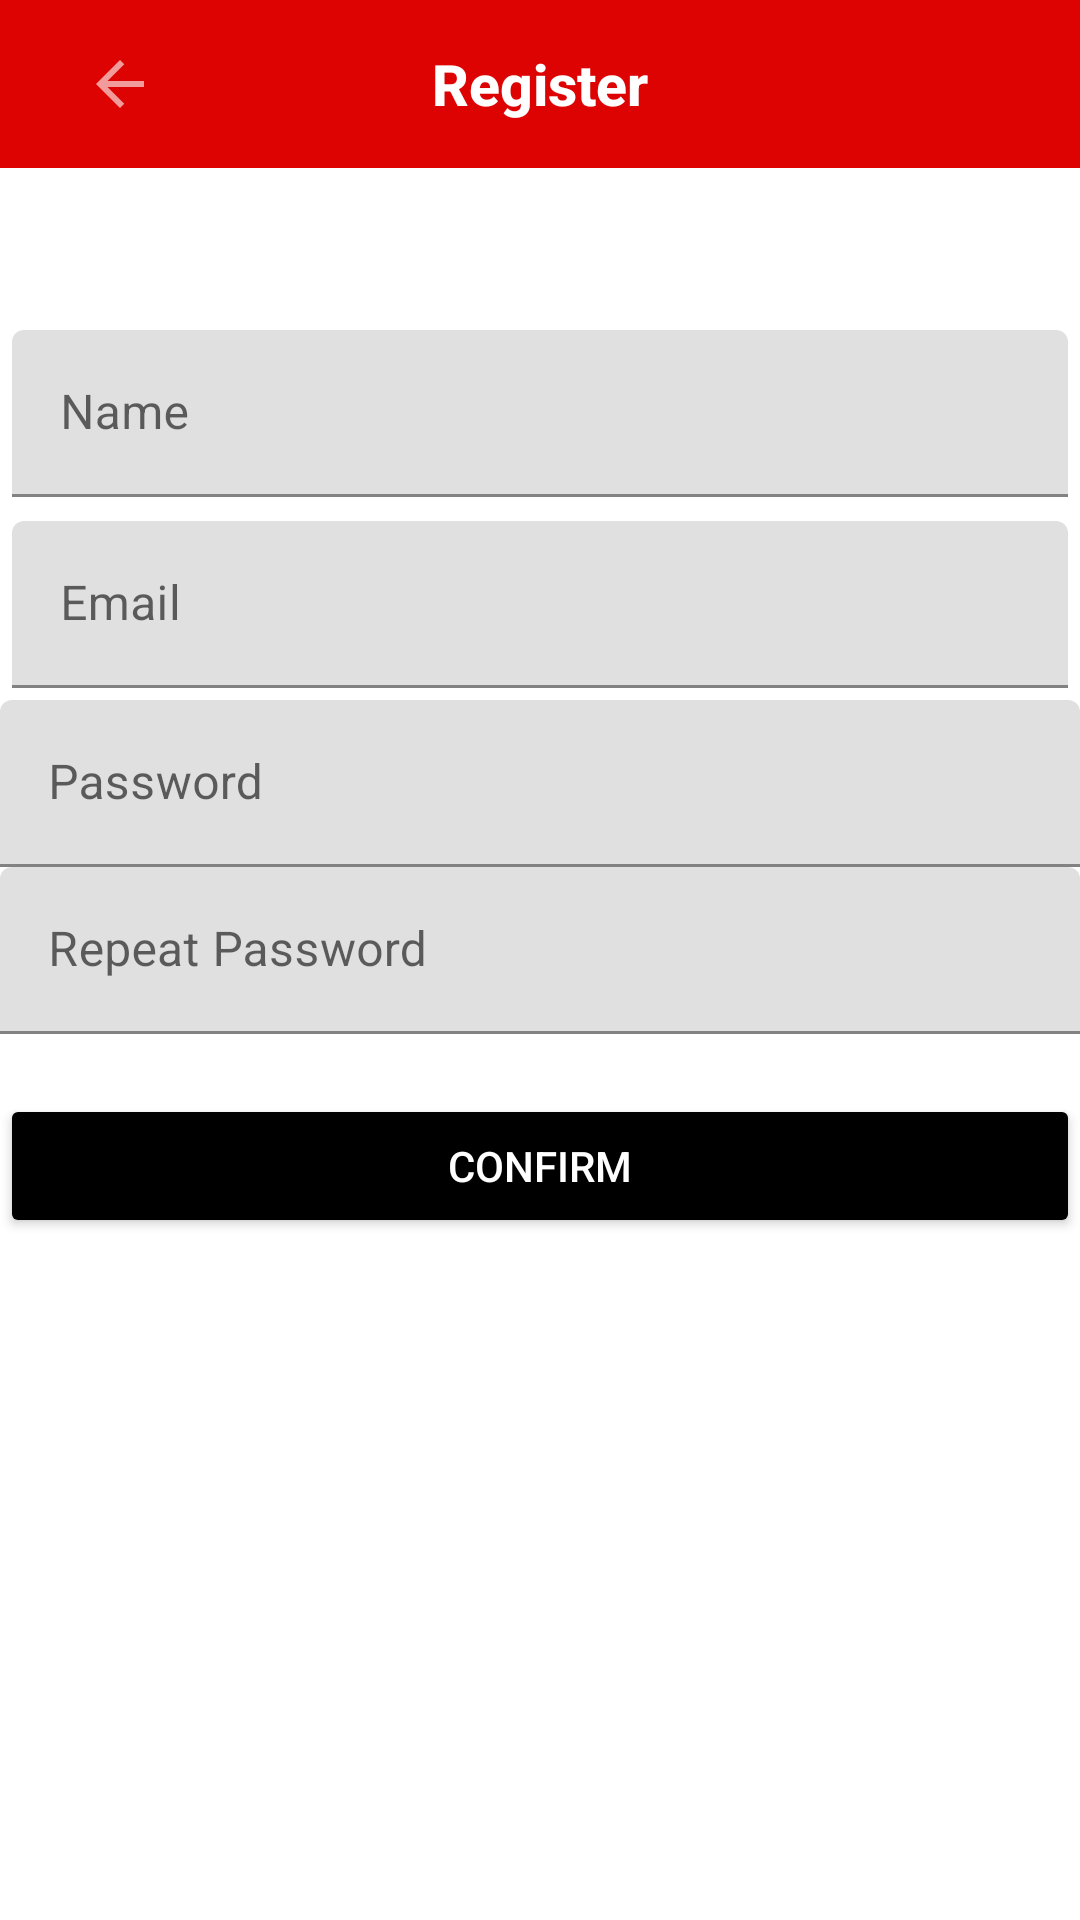

Icons on this 1080 × 1920 Android screen, each with its box as detection(x1, y1, x2, y2):
arrowback: detection(96, 60, 144, 108)
